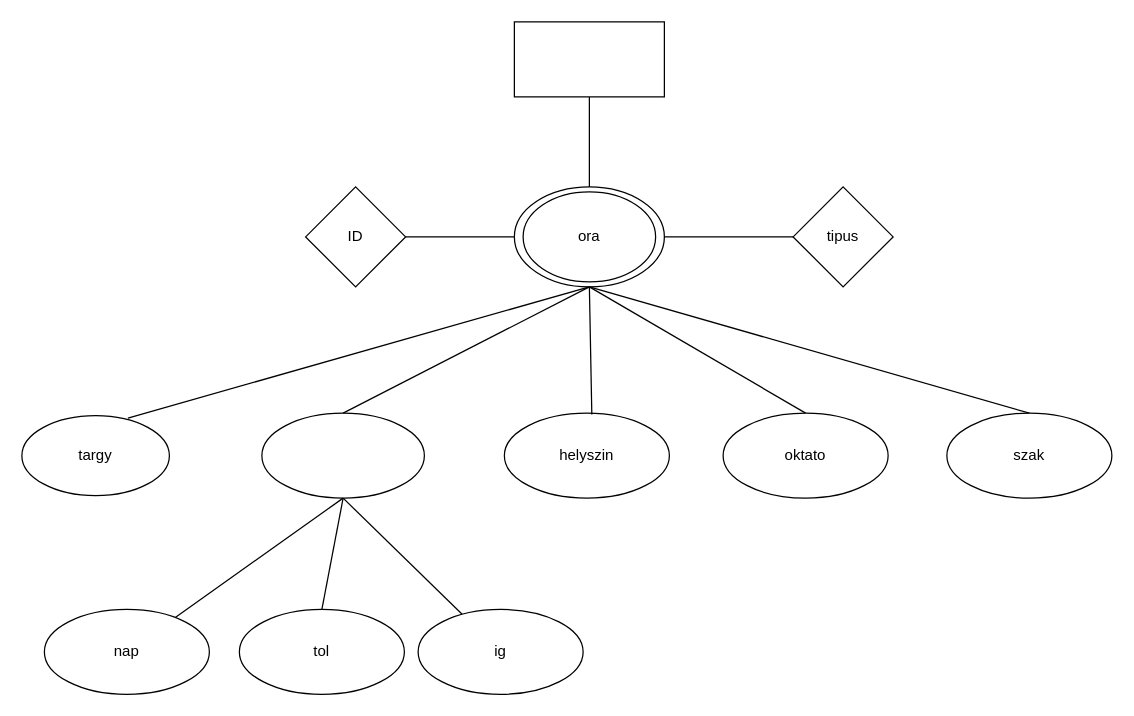
The diagram is 1134 pixels wide and 716 high, and some of its shapes have lost their labels. The shapes that lost their labels are listed below. From the top down, each one's box as (x1, y1, x2, y2) in pixels, then its label:
(513, 21, 664, 97): HWLUB0_orarend
(261, 412, 424, 498): idopont
